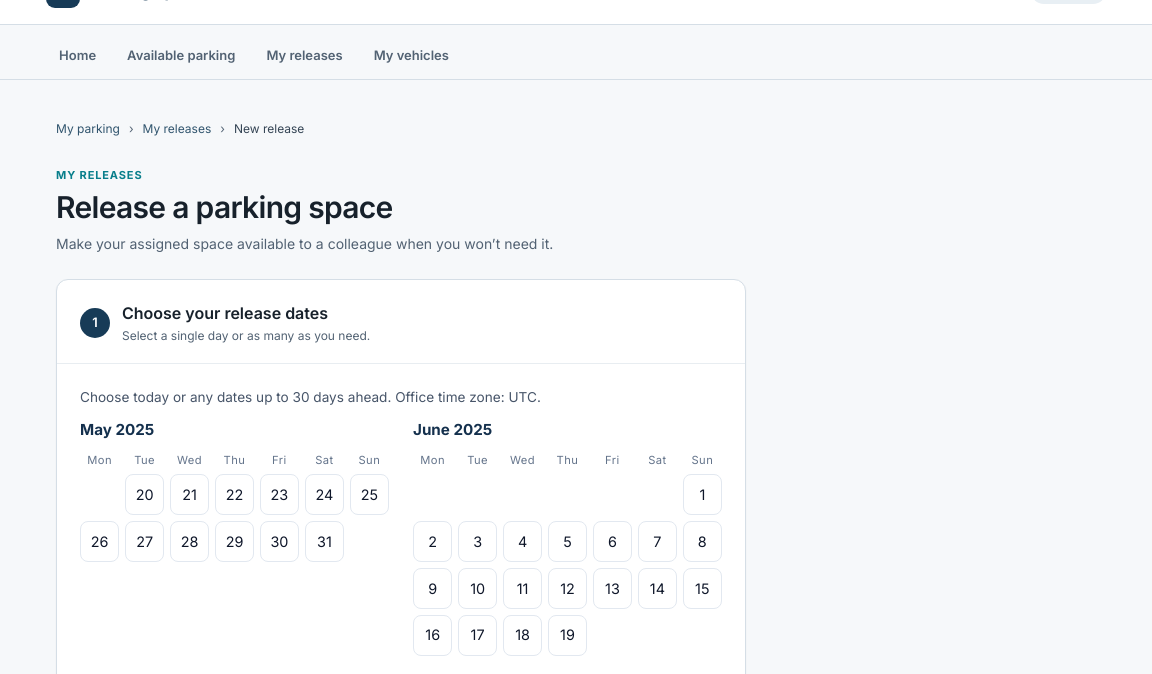
Test case: [AC-3] the calendar schedules several dates in one request and deselects on a second click
Click the button named "2025-05-20" at point(145, 495), box x1=125 y1=474 x2=164 y2=516
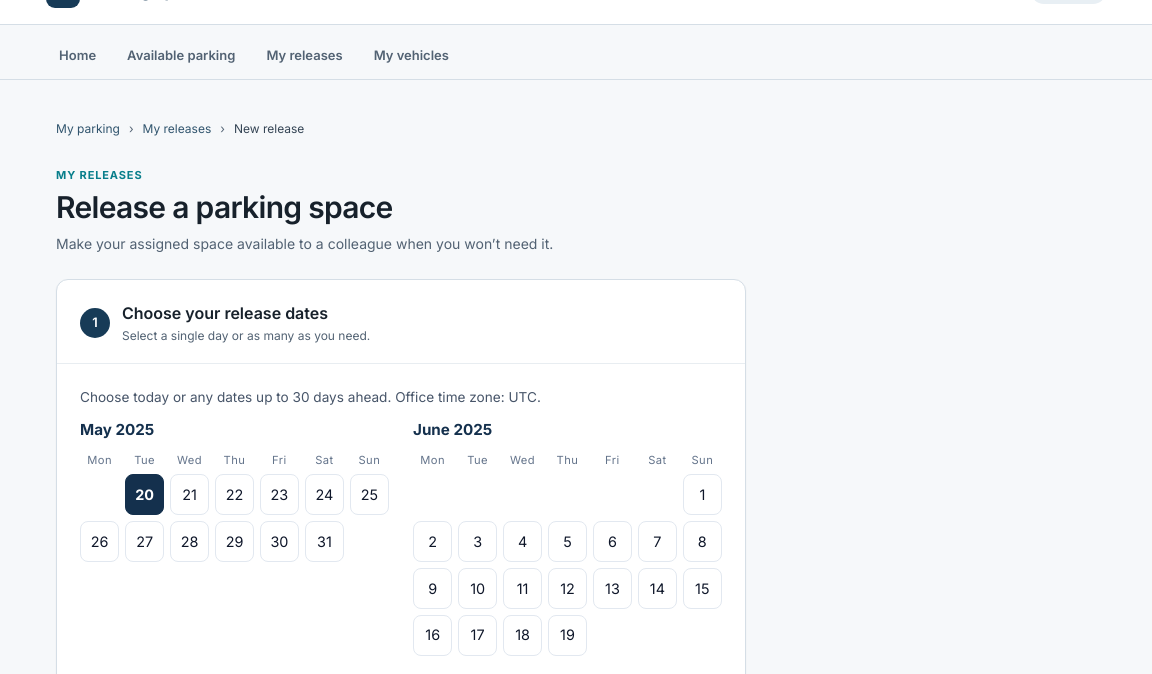
Click the button named "2025-05-21" at point(190, 495), box x1=170 y1=474 x2=209 y2=516
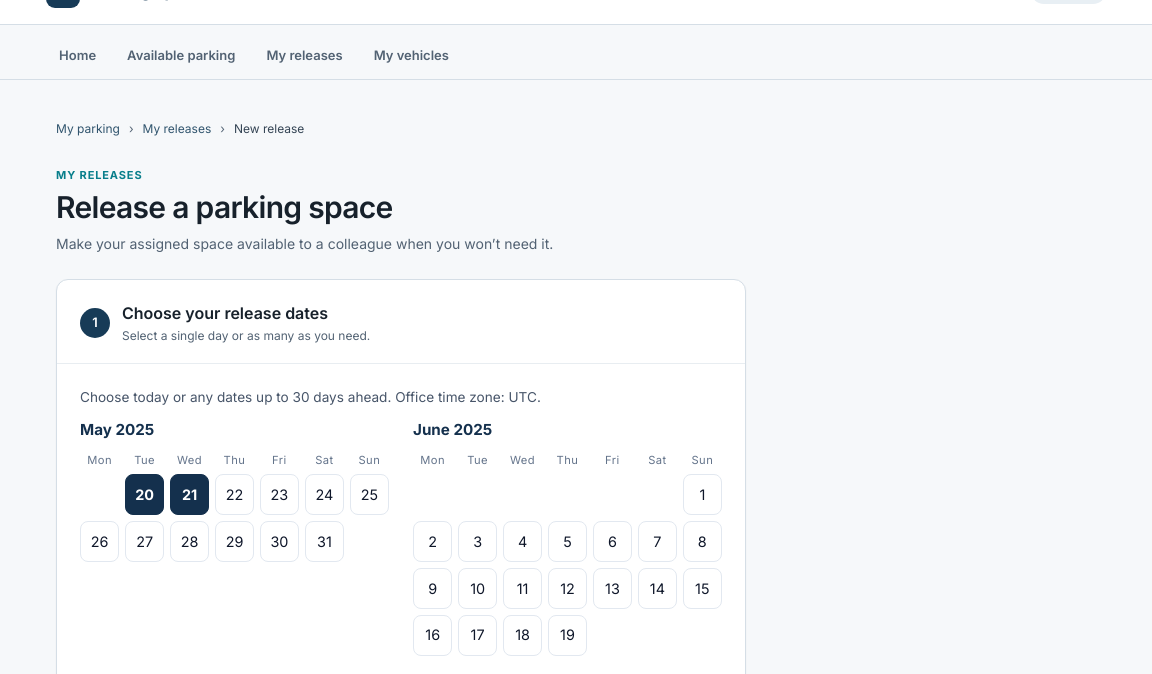
Click the button named "2025-05-22" at point(234, 495), box x1=215 y1=474 x2=254 y2=516
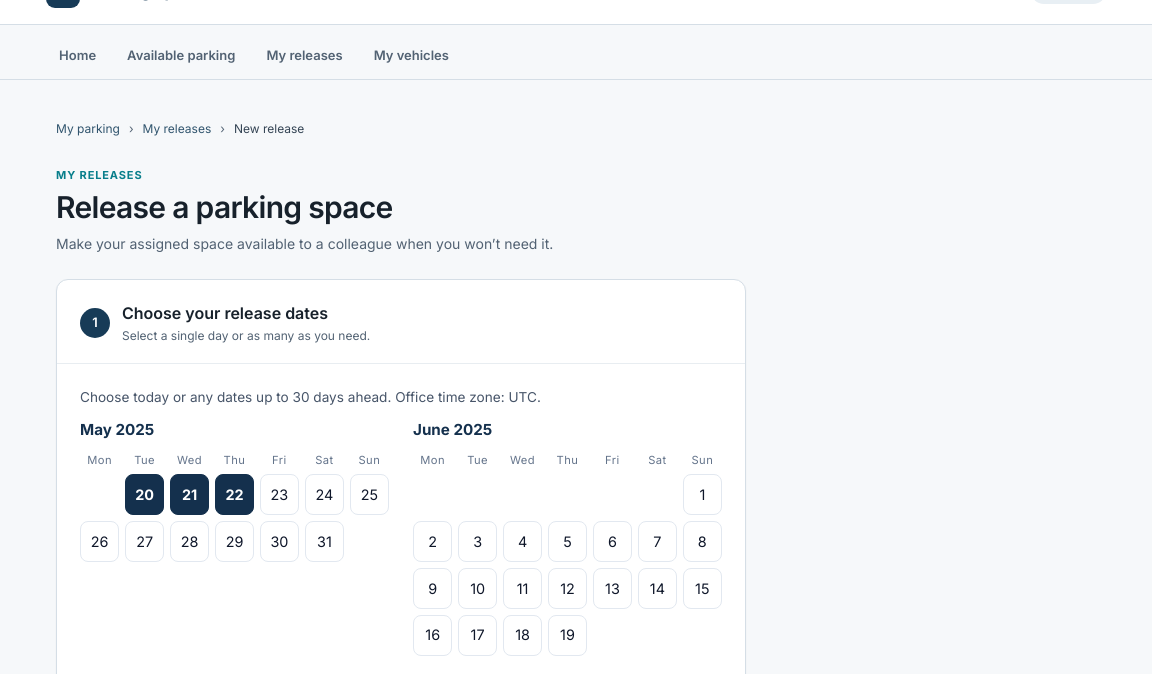
// A second click removes the date again rather than re-adding it.
Click the button named "2025-05-21" at point(190, 495), box x1=170 y1=474 x2=209 y2=516
(page scrolled)
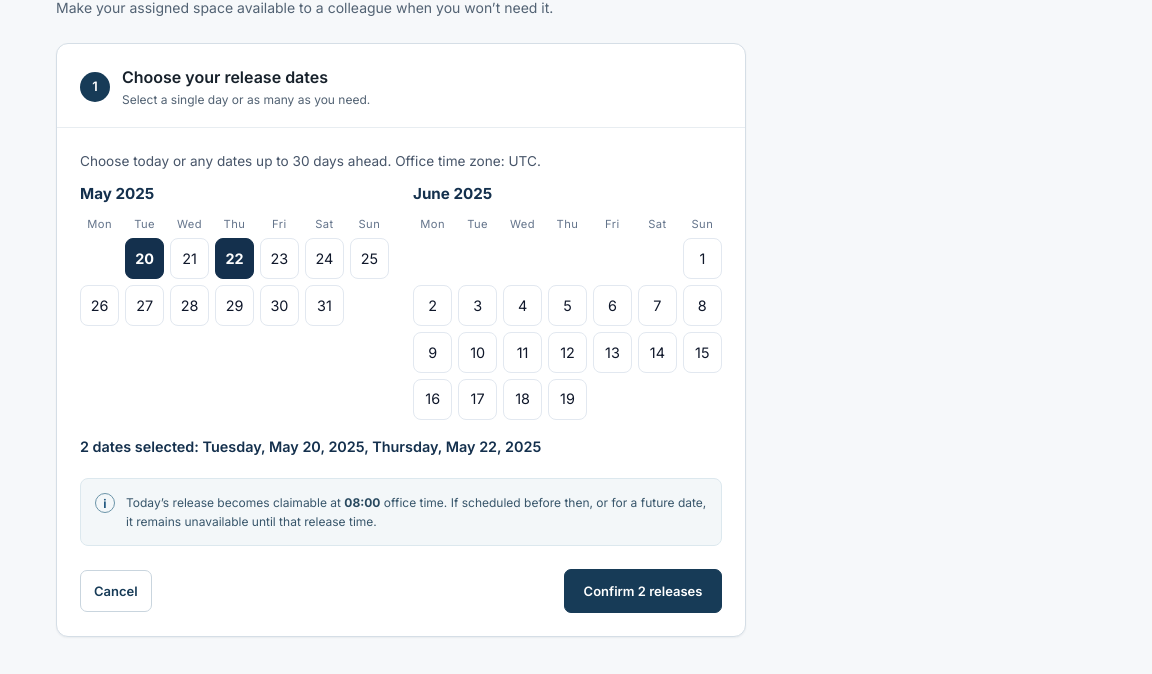
Now the button named "2025-05-21" is not pressed, box x1=170 y1=238 x2=209 y2=280
Click the button "Confirm 2 releases" at point(643, 592), box x1=564 y1=570 x2=722 y2=614
(page scrolled)
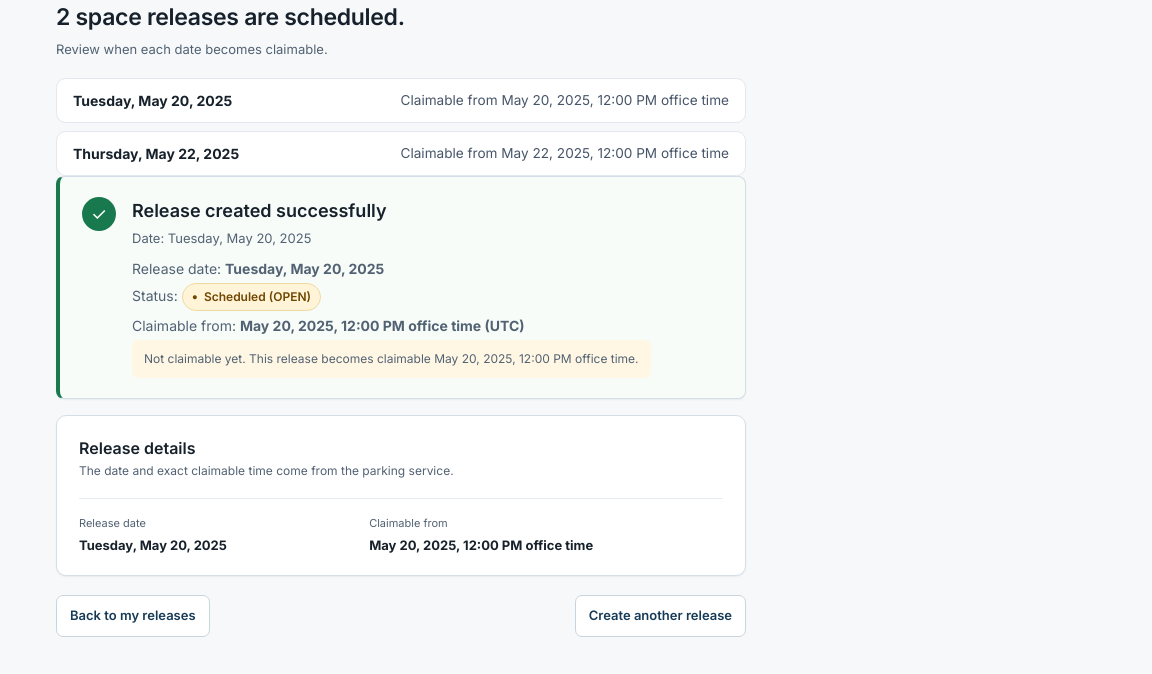
Now the heading "2 space releases are scheduled." is shown, box x1=56 y1=3 x2=405 y2=31
